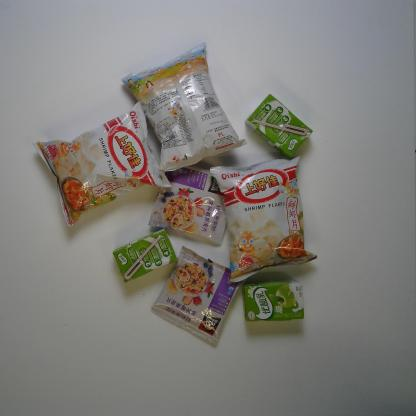Instant Drink: (150, 245, 244, 346), (147, 166, 227, 247)
Milk: (244, 92, 313, 157), (112, 227, 178, 284), (240, 279, 306, 324)
Puffed Food: (30, 99, 172, 229), (121, 40, 248, 173), (209, 155, 320, 284)
